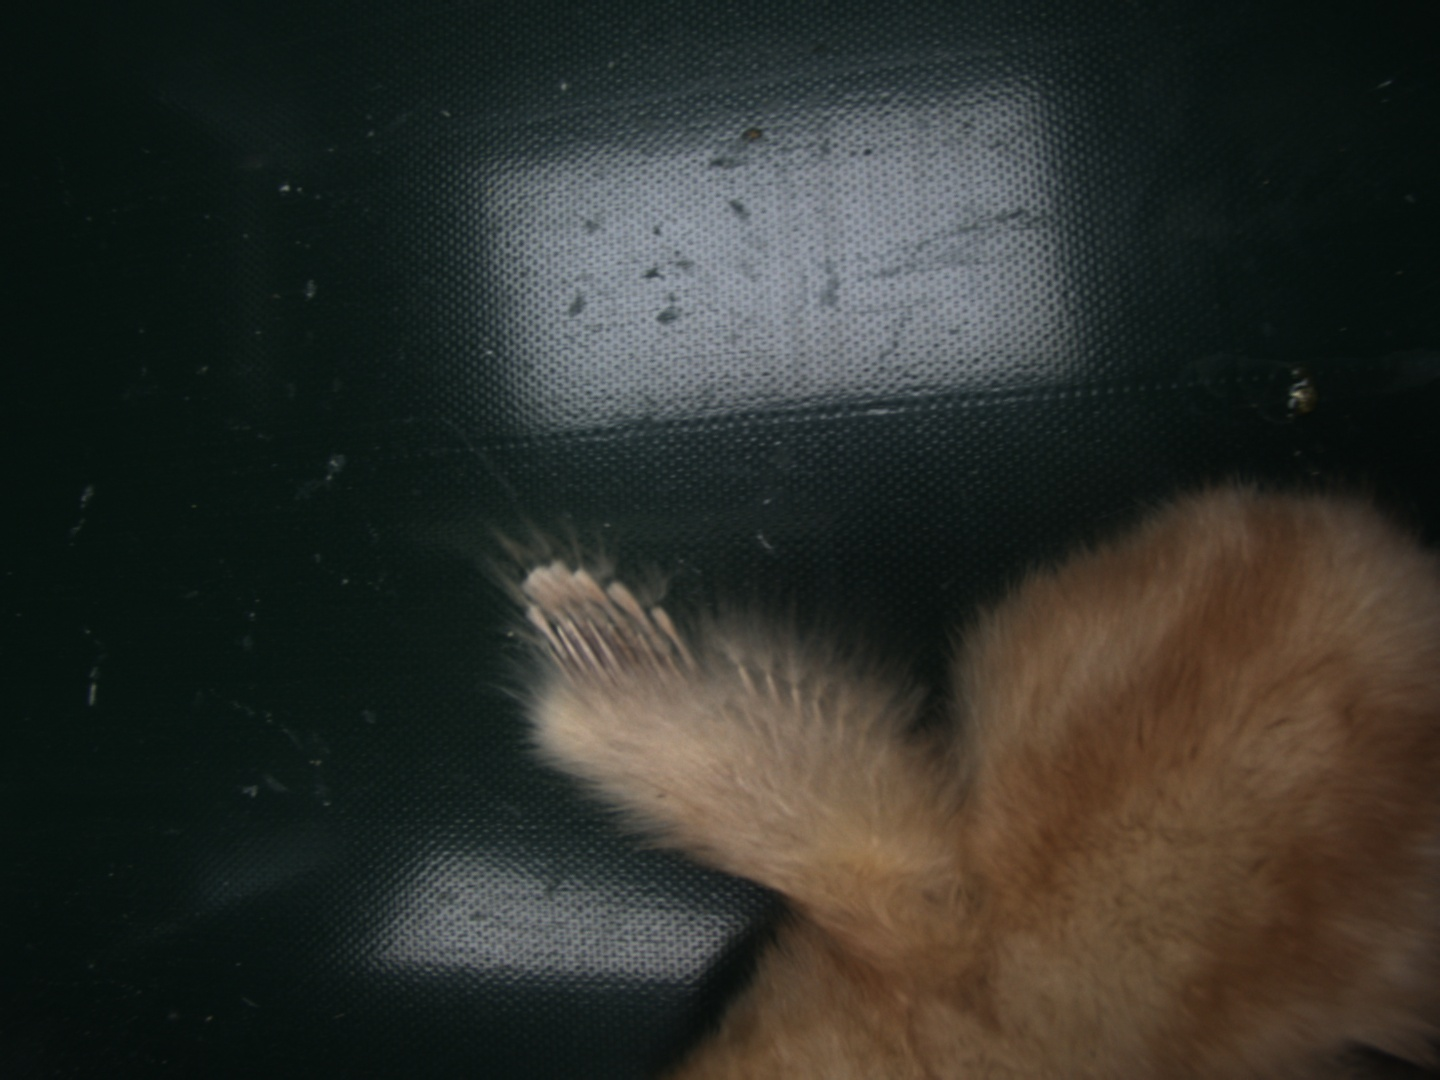female: (517, 560, 698, 683)
